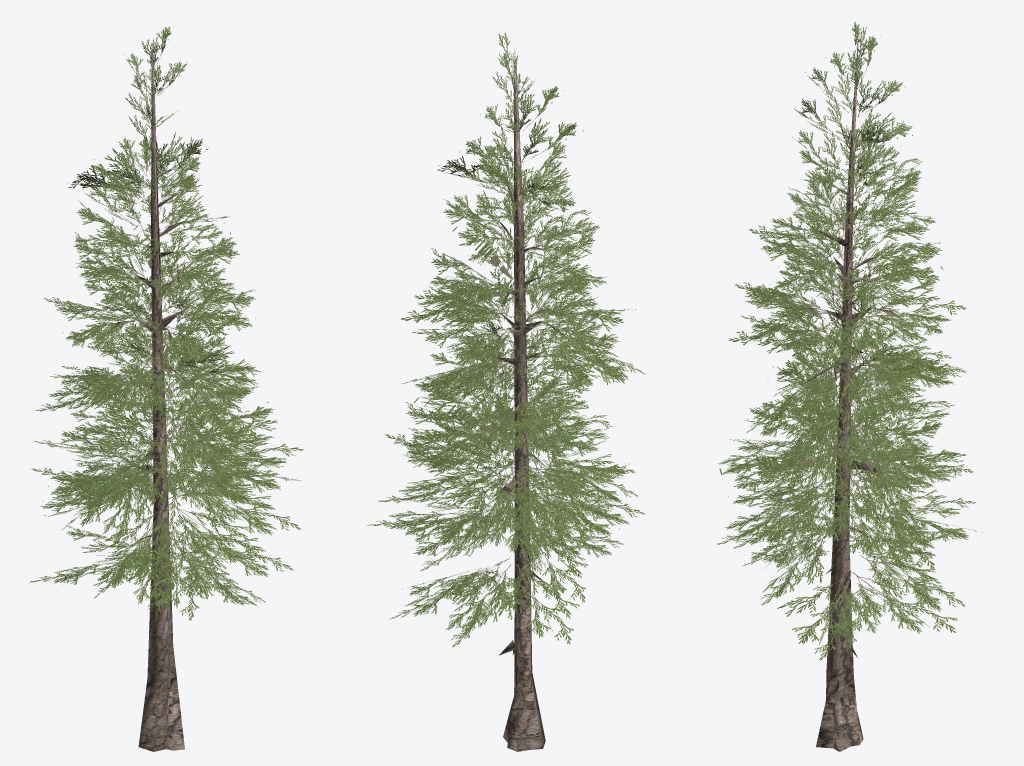
The model's file is tree_spruce_lo.glb.
3 views of the same model, side by side, from view 1: azimuth 30°, elevation 25°; view 2: azimuth 150°, elevation 25°; view 3: azimuth 270°, elevation 25° (orthographic). The views are drawn at different scales.
Visible parts, largest first — view 1: leaf, trunk; view 2: leaf, trunk; view 3: leaf, trunk.
Part boxes in pixels (x1,y1,x2,y2): leaf: (29, 26, 303, 620); trunk: (114, 51, 200, 751); leaf: (367, 32, 645, 647); trunk: (489, 59, 563, 751); leaf: (717, 21, 976, 660); trunk: (801, 39, 900, 751).
Bounding box in the file's own units: 4.86 × 12.1 × 4.75.
Materials: 2 (2 with a texture image).
